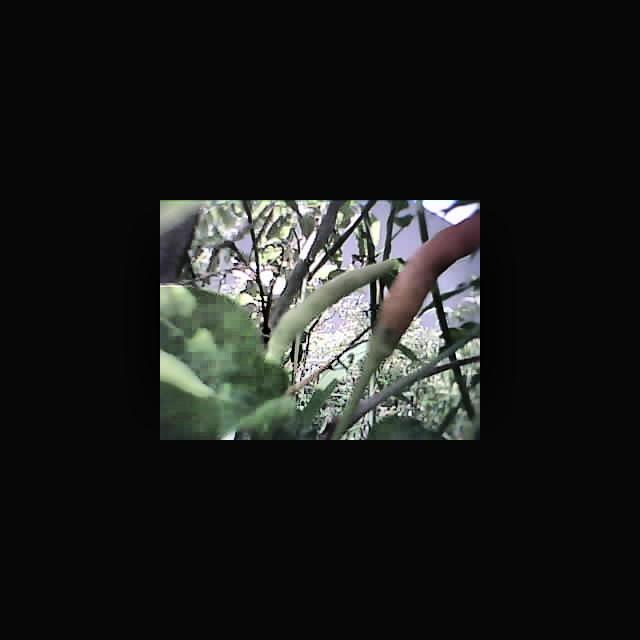Cabai: (404, 215, 477, 310)
